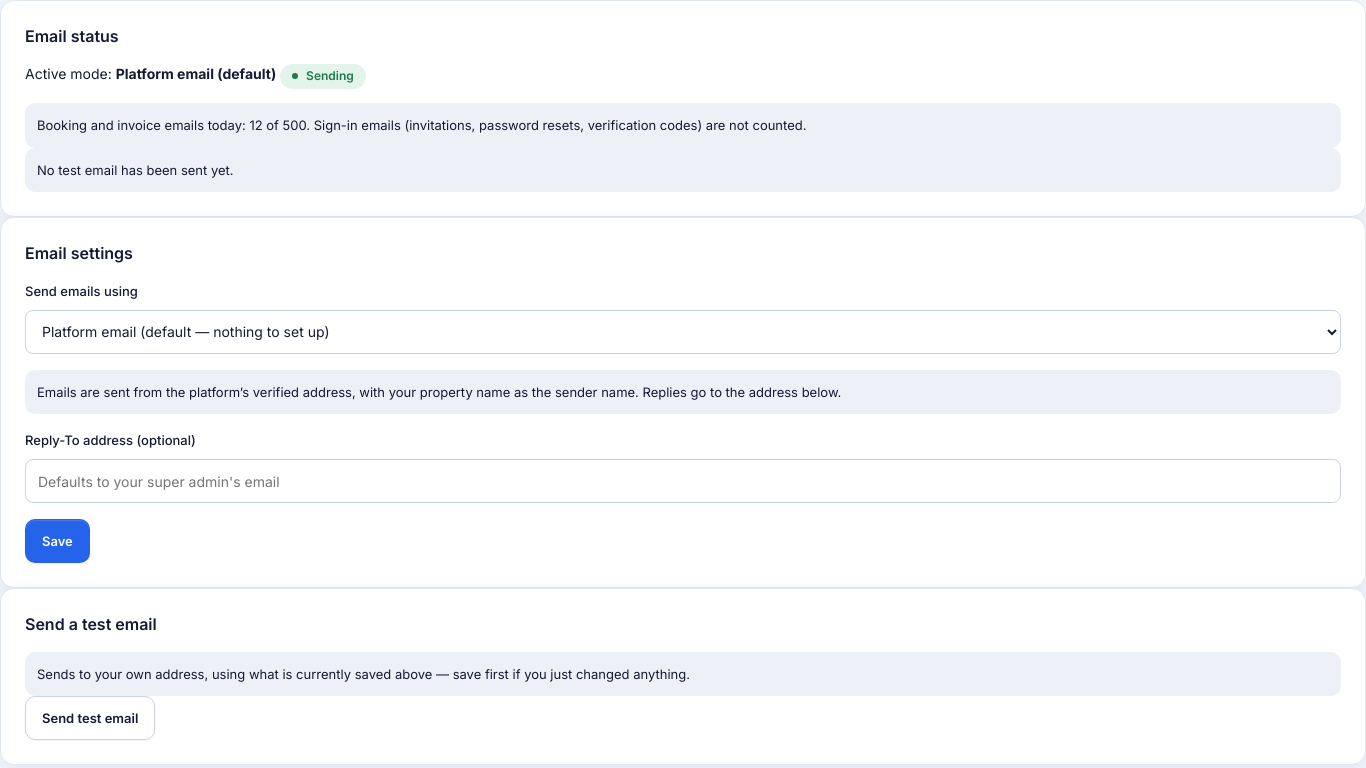
Test: <EmailSettingsTab> › shows a real server refusal (e.g. a blocked host) on save
Select "Your own SMTP server" in the dropdown labelled "Send emails using": (683, 332) [25,310,1341,354]
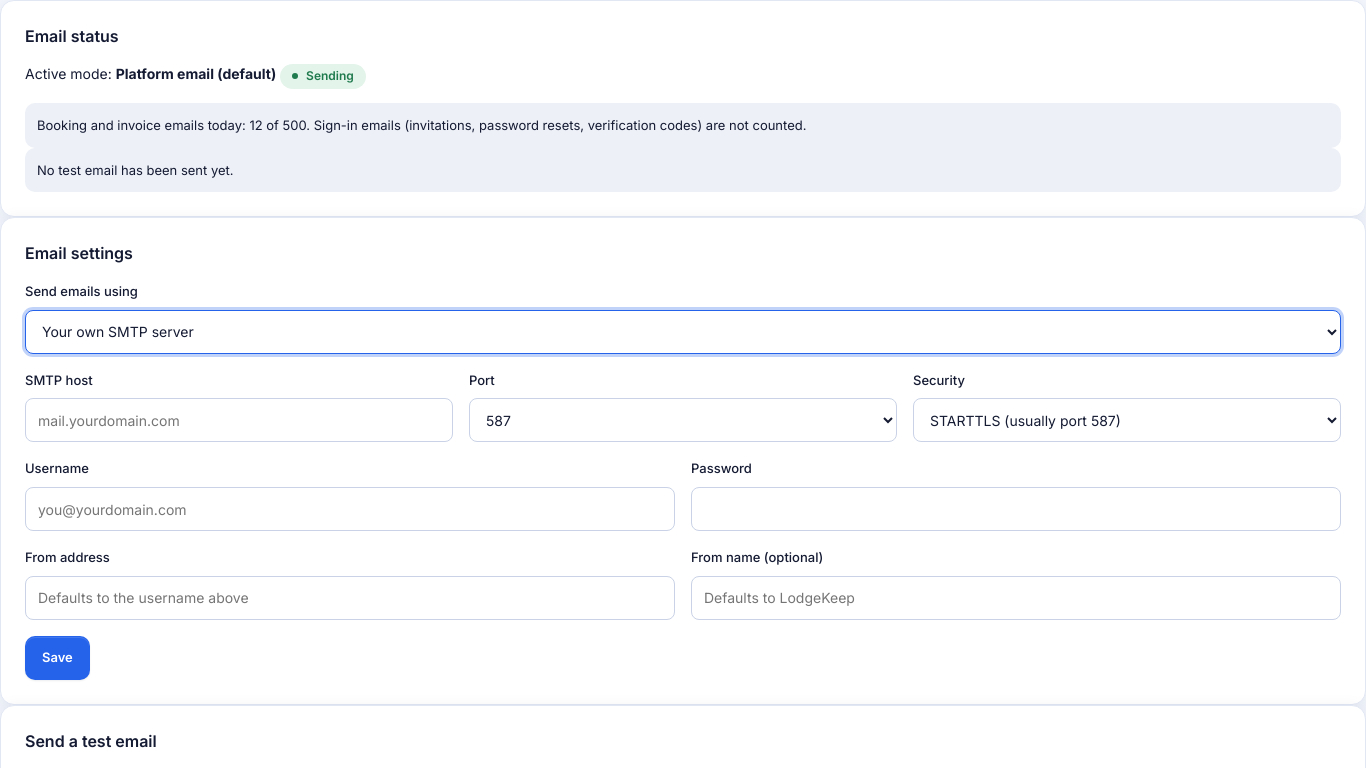
In the field with placeholder "mail.yourdomain.com": (239, 420) [25,398,453,442], type "10.0.0.1"
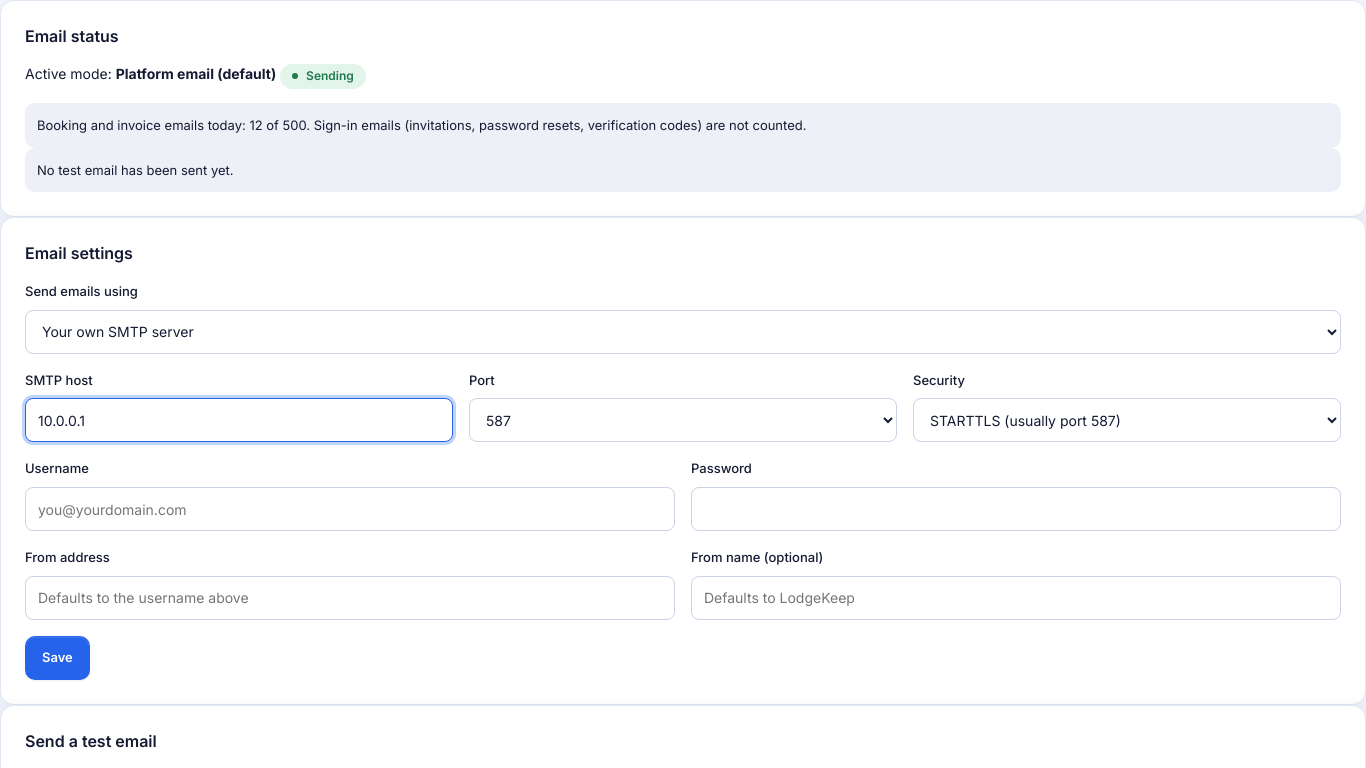
Click the button "Save": (57, 658) [25,636,90,680]
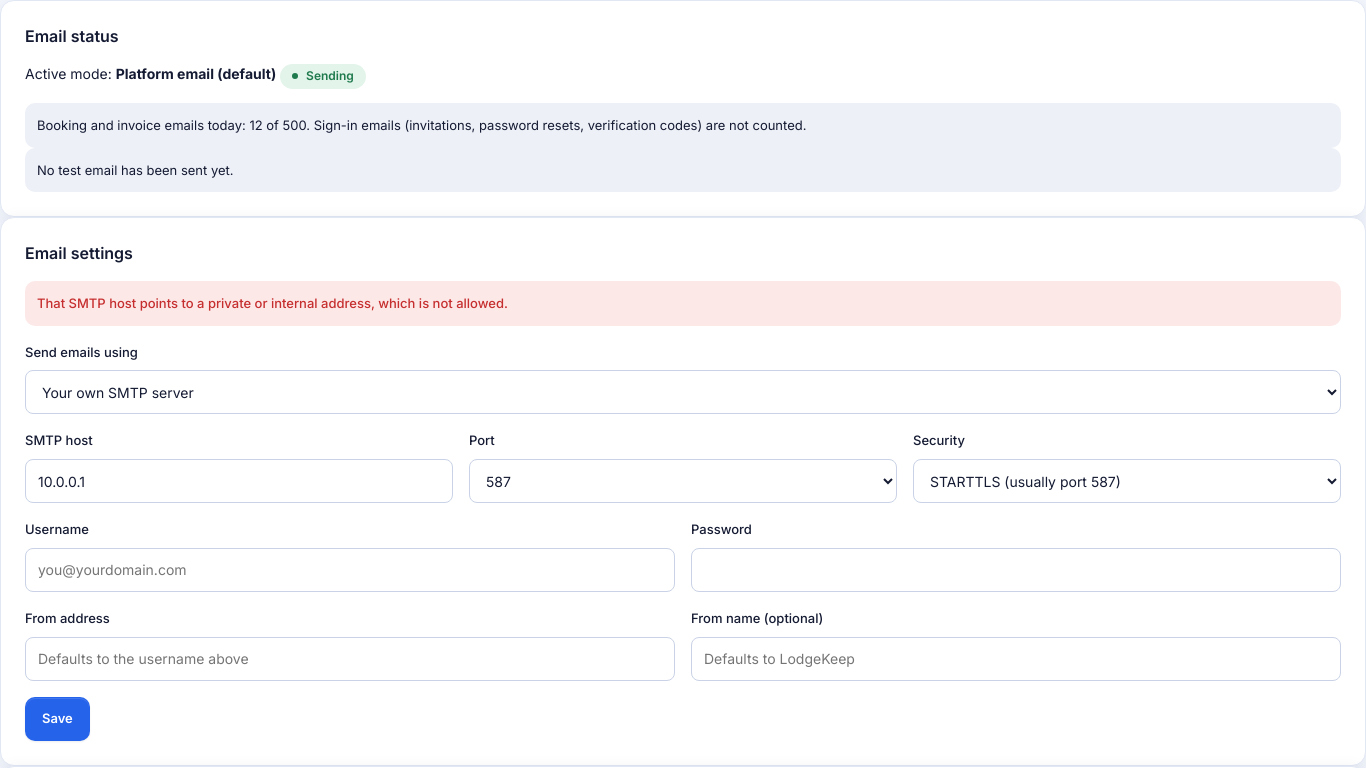
Expected: the text "That SMTP host points to a private or internal address, which is not allowed." is shown, [25,281,1341,326]
